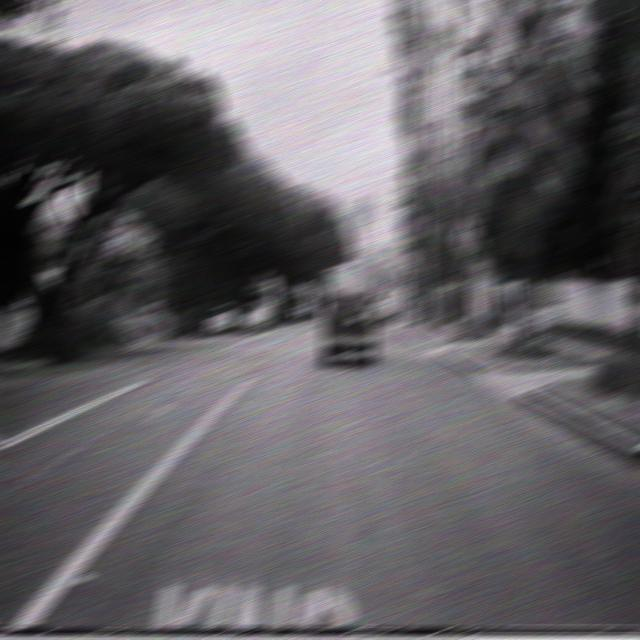pedestrianCrossing: (450, 212, 480, 258)
